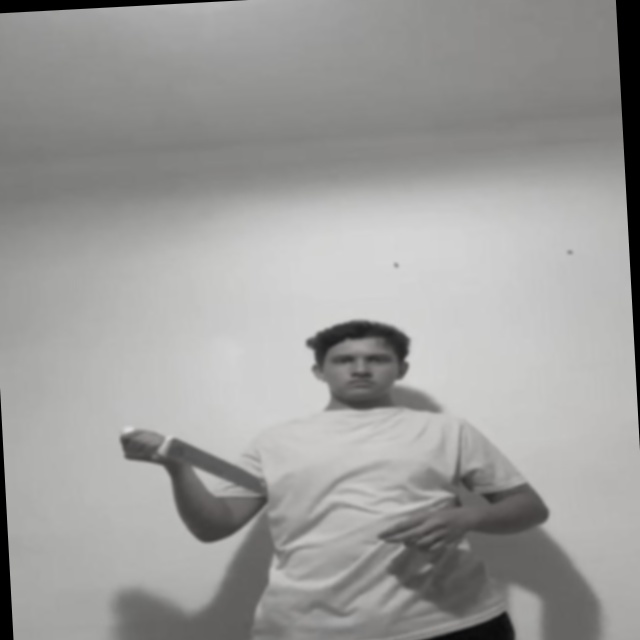Sharp-Object: (166, 430, 256, 493)
